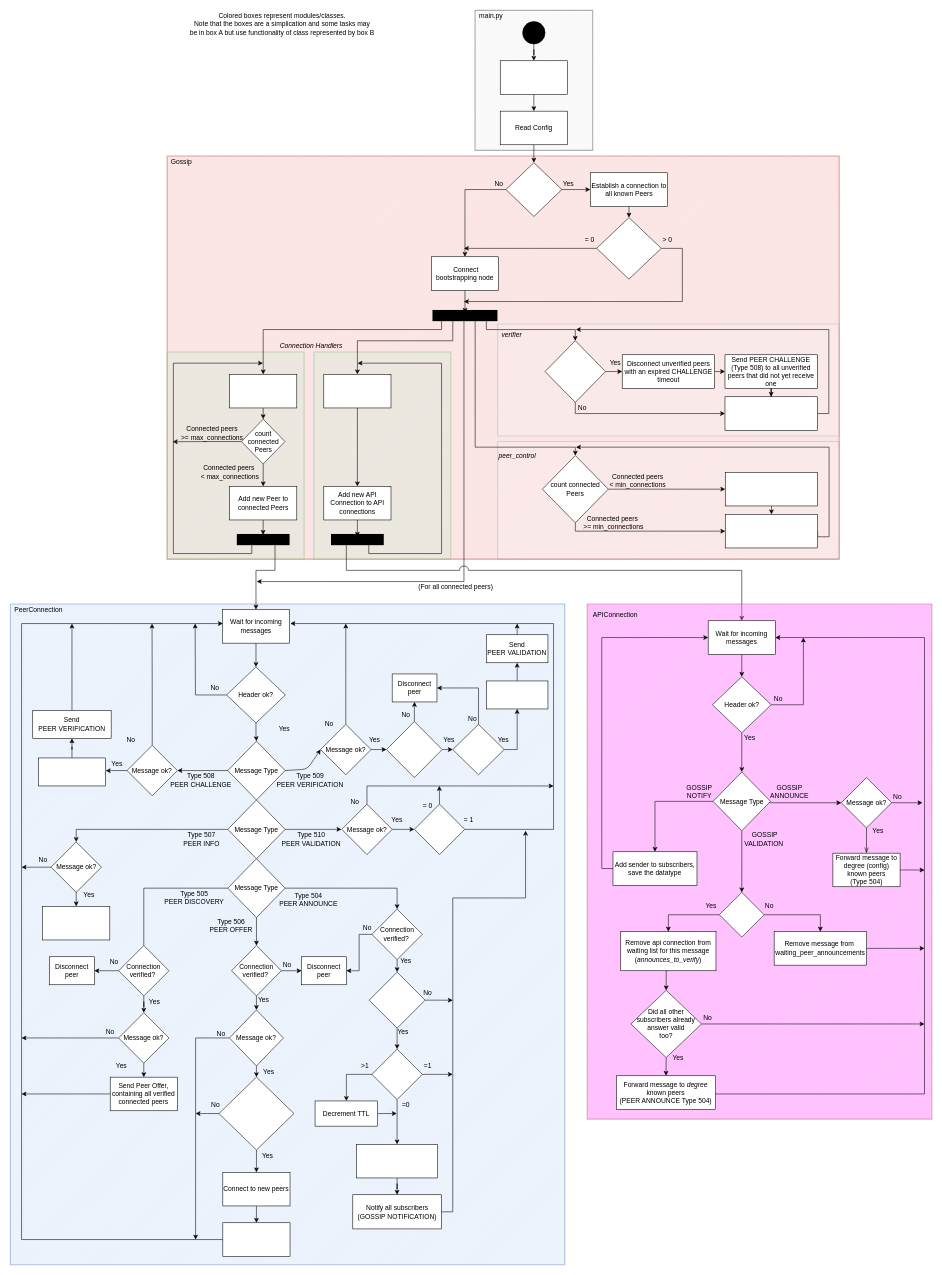
Some shapes in this 942 by 1275 pixel diagram are drawn without their labels. Each missing label, with the box of its shape:
Answer is Valid: (719, 892, 764, 937)
has unverified Peers: (544, 340, 606, 402)
Hash okay ?: (452, 724, 504, 775)
known_peers in Config?: (505, 162, 562, 216)
Message ok and data type exists?: (369, 972, 425, 1028)
Parse command line arguments: (500, 60, 567, 94)
PEER DISCOVERY was send not too long ago?: (218, 1077, 294, 1150)
Save p2p listening port: (42, 906, 110, 940)
Save the message in announces_to_verify: (356, 1144, 438, 1178)
Send PEER DISCOVERY (Type 505) to all verified peers: (725, 472, 818, 506)
Send PEER INFO to new peers: (222, 1222, 290, 1256)
Sent PEER CHALLENGE ?: (386, 721, 442, 778)
set this connection fully validated: (486, 680, 548, 709)
Solve SHA256( nonce++challenge): (38, 757, 106, 786)
Successfully Connected peers: (596, 217, 661, 279)
TTL: (371, 1049, 422, 1100)
Valid bit: (414, 804, 465, 855)
Wait challenge_cooldown seconds: (724, 396, 817, 430)
Wait for new API connections: (323, 374, 391, 408)
Wait for new Peer connections: (229, 374, 297, 408)
Wait search_cooldown seconds: (725, 514, 818, 548)
